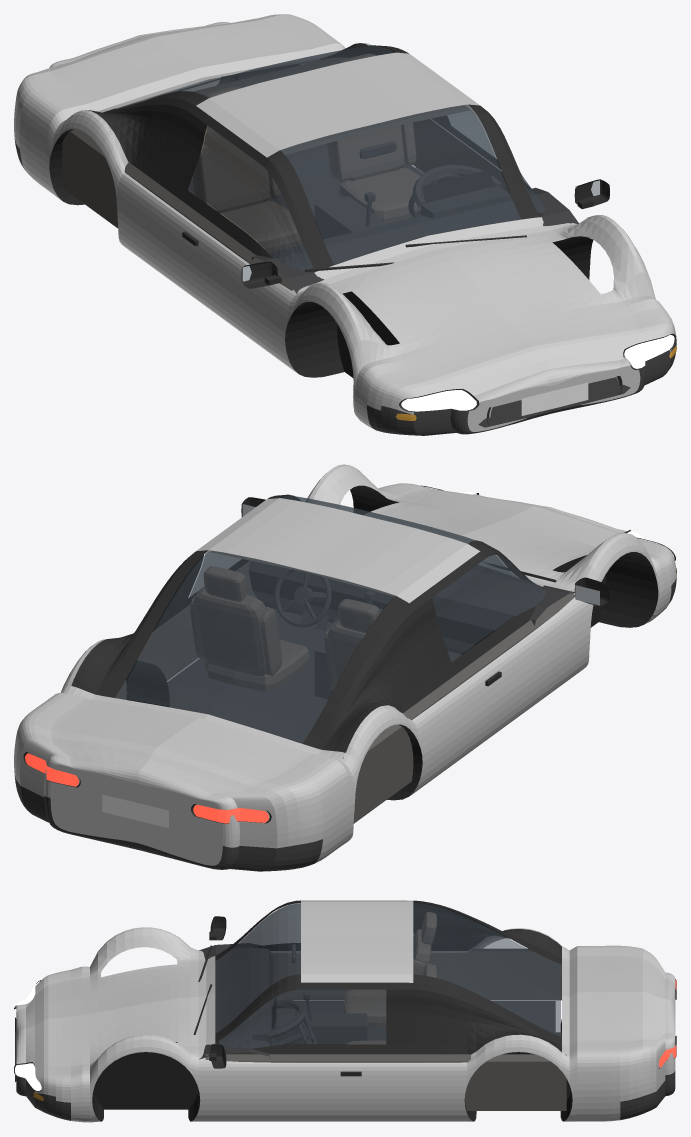
The model's file is car_vanta.fbx.
3 renders of one model, top to bottom at view 1: azimuth 30°, elevation 25°; view 2: azimuth 150°, elevation 25°; view 3: azimuth 270°, elevation 25°, orthographic. The views are drawn at different scales.
Visible parts, largest first — view 1: vanta__hood, vanta__glass, vanta__trunk, vanta__roof, vanta__interior, vanta__seats, vanta__pillars, vanta__cabin, vanta__quarterR, vanta__doorR, vanta__wells, vanta__fenderFR (+10 smaller); view 2: vanta__glass, vanta__trunk, vanta__interior, vanta__pillars, vanta__roof, vanta__hood, vanta__quarterR, vanta__seats, vanta__rearPanel, vanta__cabin, vanta__doorR, vanta__wells (+8 smaller); view 3: vanta__glass, vanta__hood, vanta__cabin, vanta__pillars, vanta__trunk, vanta__quarterL, vanta__interior, vanta__doorL, vanta__roof, vanta__wells, vanta__fenderFL, vanta__seals (+7 smaller).
Boxes of the visible parts, bbox=[...] form: vanta__hood: bbox=[301, 215, 662, 402]; vanta__glass: bbox=[117, 46, 545, 270]; vanta__trunk: bbox=[28, 14, 575, 291]; vanta__roof: bbox=[196, 52, 479, 157]; vanta__interior: bbox=[188, 141, 578, 293]; vanta__seats: bbox=[192, 53, 423, 252]; vanta__pillars: bbox=[98, 45, 543, 272]; vanta__cabin: bbox=[62, 57, 510, 290]; vanta__quarterR: bbox=[14, 74, 173, 281]; vanta__doorR: bbox=[164, 208, 285, 362]; vanta__wells: bbox=[49, 129, 593, 377]; vanta__fenderFR: bbox=[275, 282, 421, 428]; vanta__glass: bbox=[116, 495, 545, 742]; vanta__trunk: bbox=[28, 562, 574, 805]; vanta__interior: bbox=[167, 561, 574, 743]; vanta__pillars: bbox=[77, 494, 543, 751]; vanta__roof: bbox=[196, 498, 480, 603]; vanta__hood: bbox=[312, 465, 662, 589]; vanta__quarterR: bbox=[231, 685, 469, 862]; vanta__seats: bbox=[190, 566, 379, 691]; vanta__rearPanel: bbox=[44, 755, 239, 865]; vanta__cabin: bbox=[115, 550, 574, 823]; vanta__doorR: bbox=[461, 601, 580, 758]; vanta__wells: bbox=[126, 485, 658, 800]; vanta__glass: bbox=[216, 902, 560, 1048]; vanta__hood: bbox=[16, 929, 198, 1076]; vanta__cabin: bbox=[205, 948, 566, 1110]; vanta__pillars: bbox=[215, 900, 561, 1049]; vanta__trunk: bbox=[198, 946, 675, 1056]; vanta__quarterL: bbox=[390, 1034, 665, 1121]; vanta__interior: bbox=[199, 943, 555, 1059]; vanta__doorL: bbox=[215, 1061, 390, 1121]; vanta__roof: bbox=[301, 900, 413, 982]; vanta__wells: bbox=[92, 1019, 572, 1121]; vanta__fenderFL: bbox=[35, 1034, 215, 1122]; vanta__seals: bbox=[226, 929, 561, 1054].
Size of the model in its own units: 2.36 by 1.06 by 4.72.
